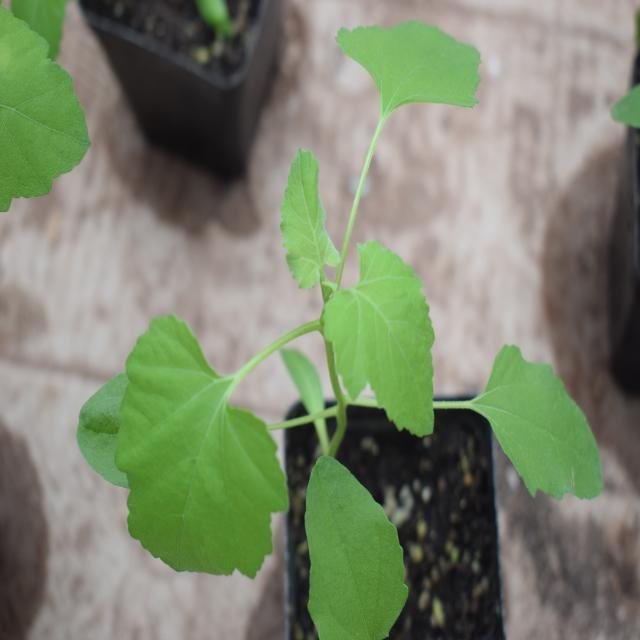cocklebur: (93, 111, 561, 569)
